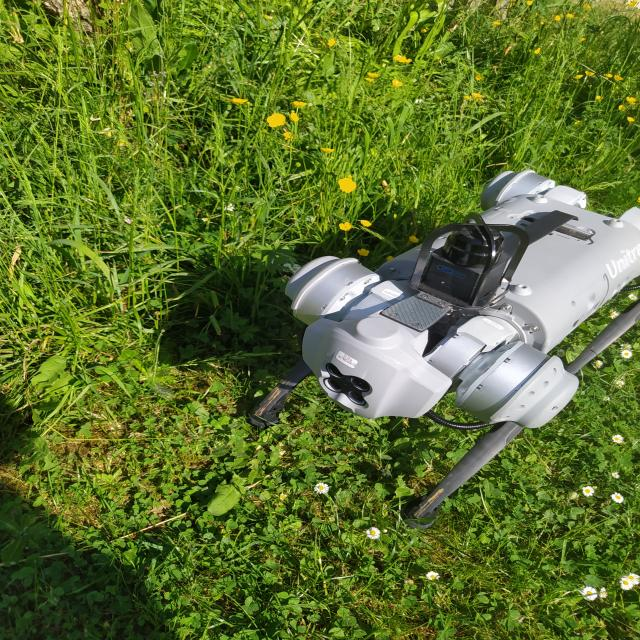unitree-go1-robot: (235, 153, 640, 534)
